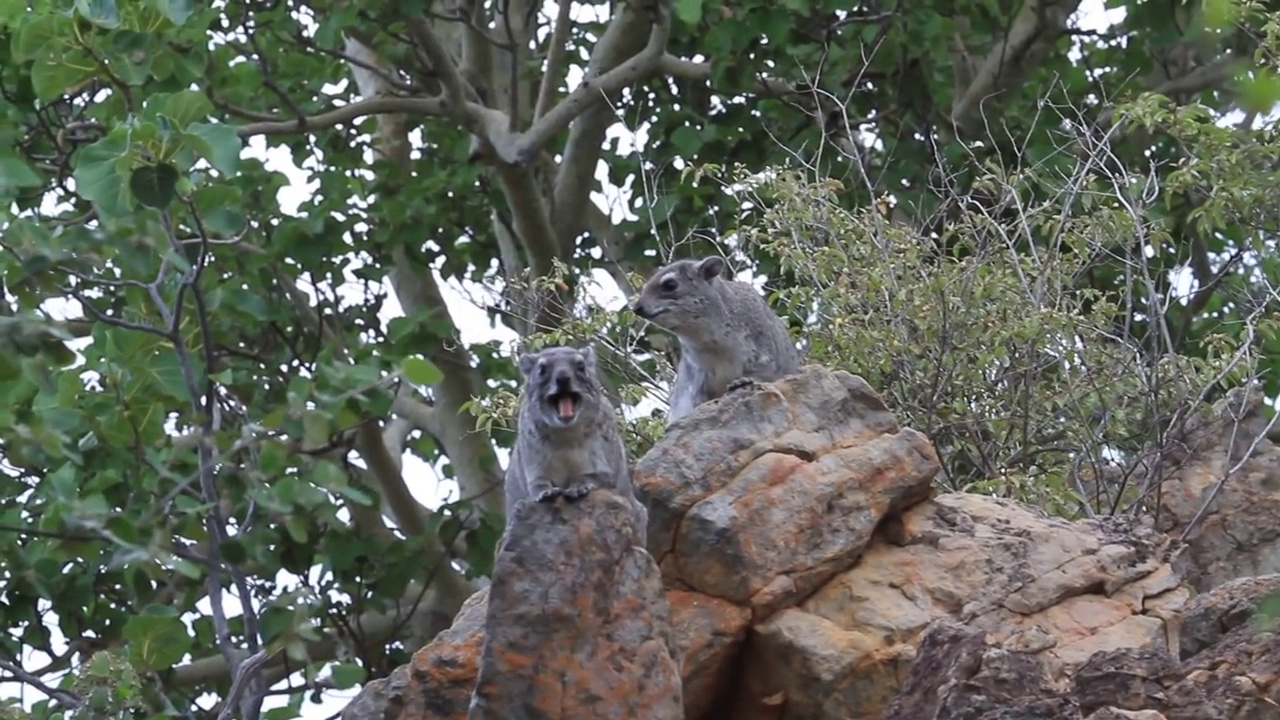Rock Hyrex: (635, 255, 804, 416), (504, 345, 639, 515)
